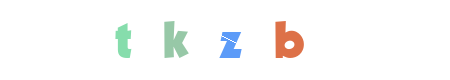B: (247, 0, 327, 80)
K: (185, 0, 265, 80)
T: (118, 0, 198, 80)
Z: (190, 0, 270, 80)
